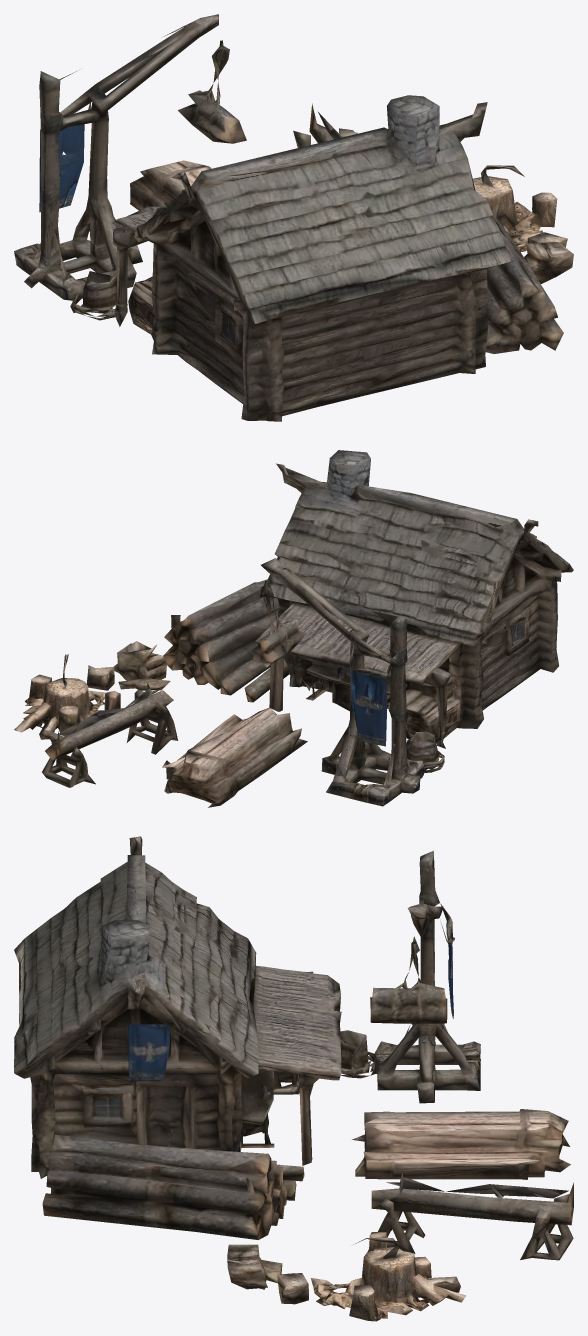
Rendered from lumber_mill_1.glb.
3 views of the same model, one above another, from view 1: azimuth 30°, elevation 25°; view 2: azimuth 150°, elevation 25°; view 3: azimuth 270°, elevation 25° (orthographic). The views are drawn at different scales.
Visible parts, largest first — view 1: tripo_node_a58eed08-7fb1-4aa9-9319-aec99c36c451; view 2: tripo_node_a58eed08-7fb1-4aa9-9319-aec99c36c451; view 3: tripo_node_a58eed08-7fb1-4aa9-9319-aec99c36c451.
Boxes of the visible parts, x1,y1,x2,y2 form: tripo_node_a58eed08-7fb1-4aa9-9319-aec99c36c451: (14, 14, 573, 421); tripo_node_a58eed08-7fb1-4aa9-9319-aec99c36c451: (14, 450, 573, 807); tripo_node_a58eed08-7fb1-4aa9-9319-aec99c36c451: (14, 836, 573, 1321).
Bounding box in the file's own units: 0.9729 × 0.4982 × 0.9519.
Materials: 1 (1 with a texture image).
